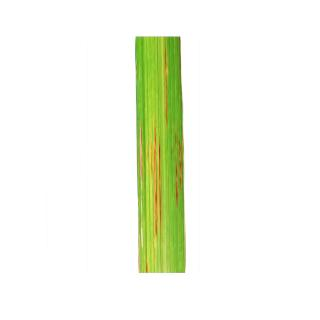Bercak-Cokelat-Sempit: (149, 128, 165, 228), (158, 41, 172, 128), (134, 131, 142, 197), (175, 138, 179, 218)
